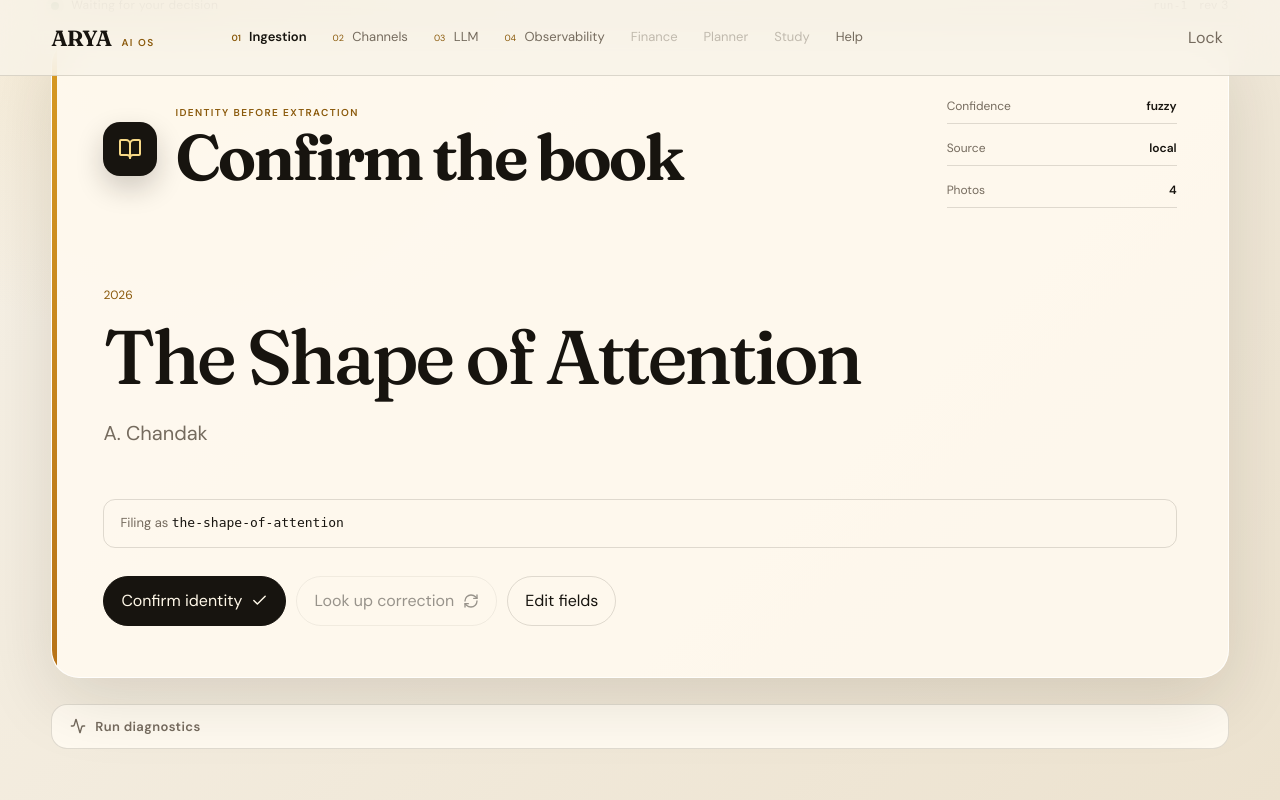
Test: an unsupported legal action › reports no contract problem when every returned action is supported
The width and height of the screenshot is (1280, 800).
(page scrolled)
Click the heading "Run diagnostics" at (135, 726), box [70,718,201,735]
(page scrolled)
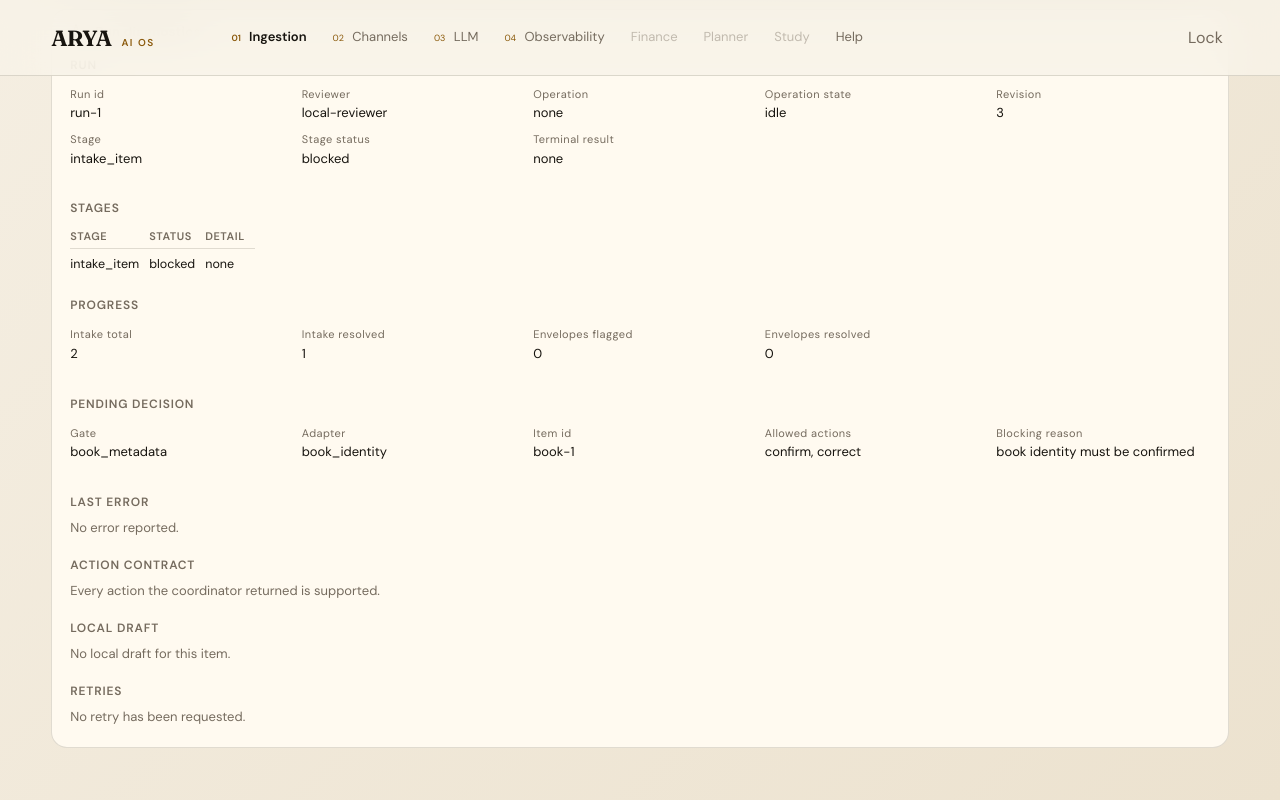
Now the text "Every action the coordinator returned is supported." is shown, box [70,582,380,599]
